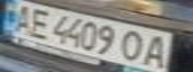0: (78, 19, 100, 52)
4: (45, 14, 72, 45), (63, 17, 84, 48)
9: (93, 22, 121, 56)
A: (139, 33, 178, 70), (6, 1, 39, 34)
E: (24, 7, 57, 39)
O: (115, 28, 151, 63)
